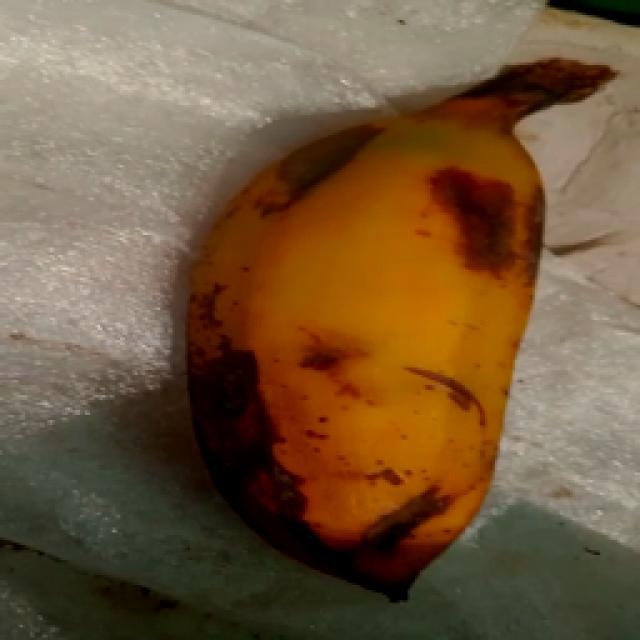Rotten_Banana: (178, 55, 622, 610)
